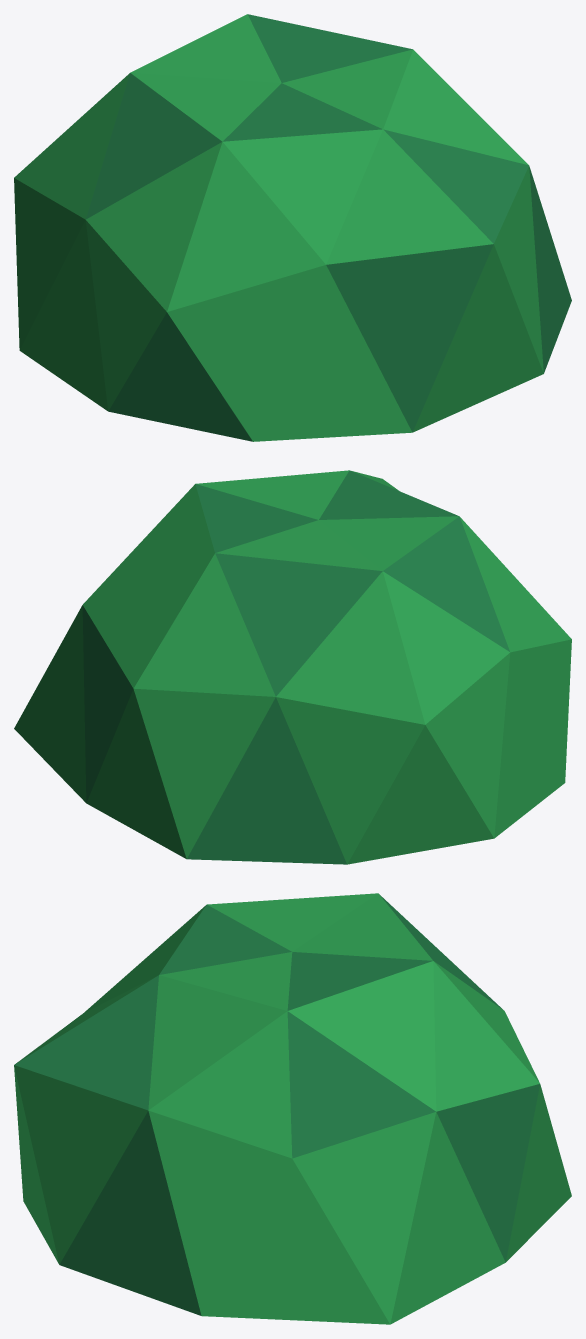
The model's file is bush.dae.
The picture shows the model from 3 angles, top to bottom: view 1: azimuth 30°, elevation 25°; view 2: azimuth 150°, elevation 25°; view 3: azimuth 270°, elevation 25°; orthographic projection. The views are drawn at different scales.
Parts seen in each view (by area): view 1: Icosphere; view 2: Icosphere; view 3: Icosphere.
Part boxes in pixels (bbox=[...]): Icosphere: bbox=[14, 14, 571, 441]; Icosphere: bbox=[14, 470, 571, 864]; Icosphere: bbox=[14, 893, 571, 1324].
Bounding box in the file's own units: 2.23 × 2.21 × 1.14.
